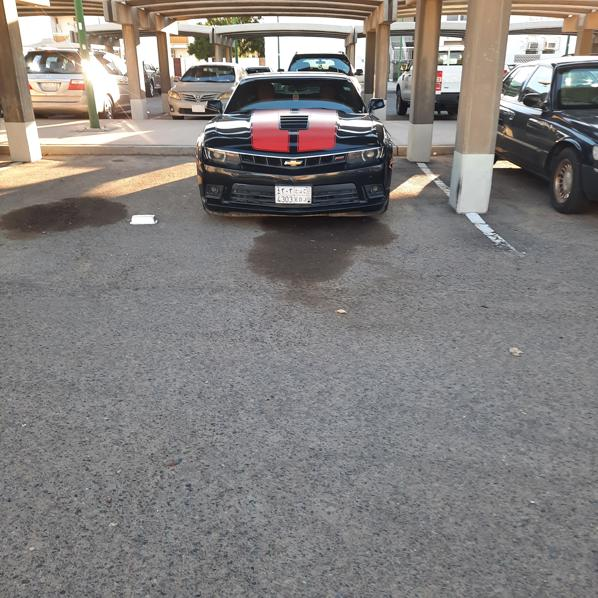numberplate: (275, 185, 312, 203)
